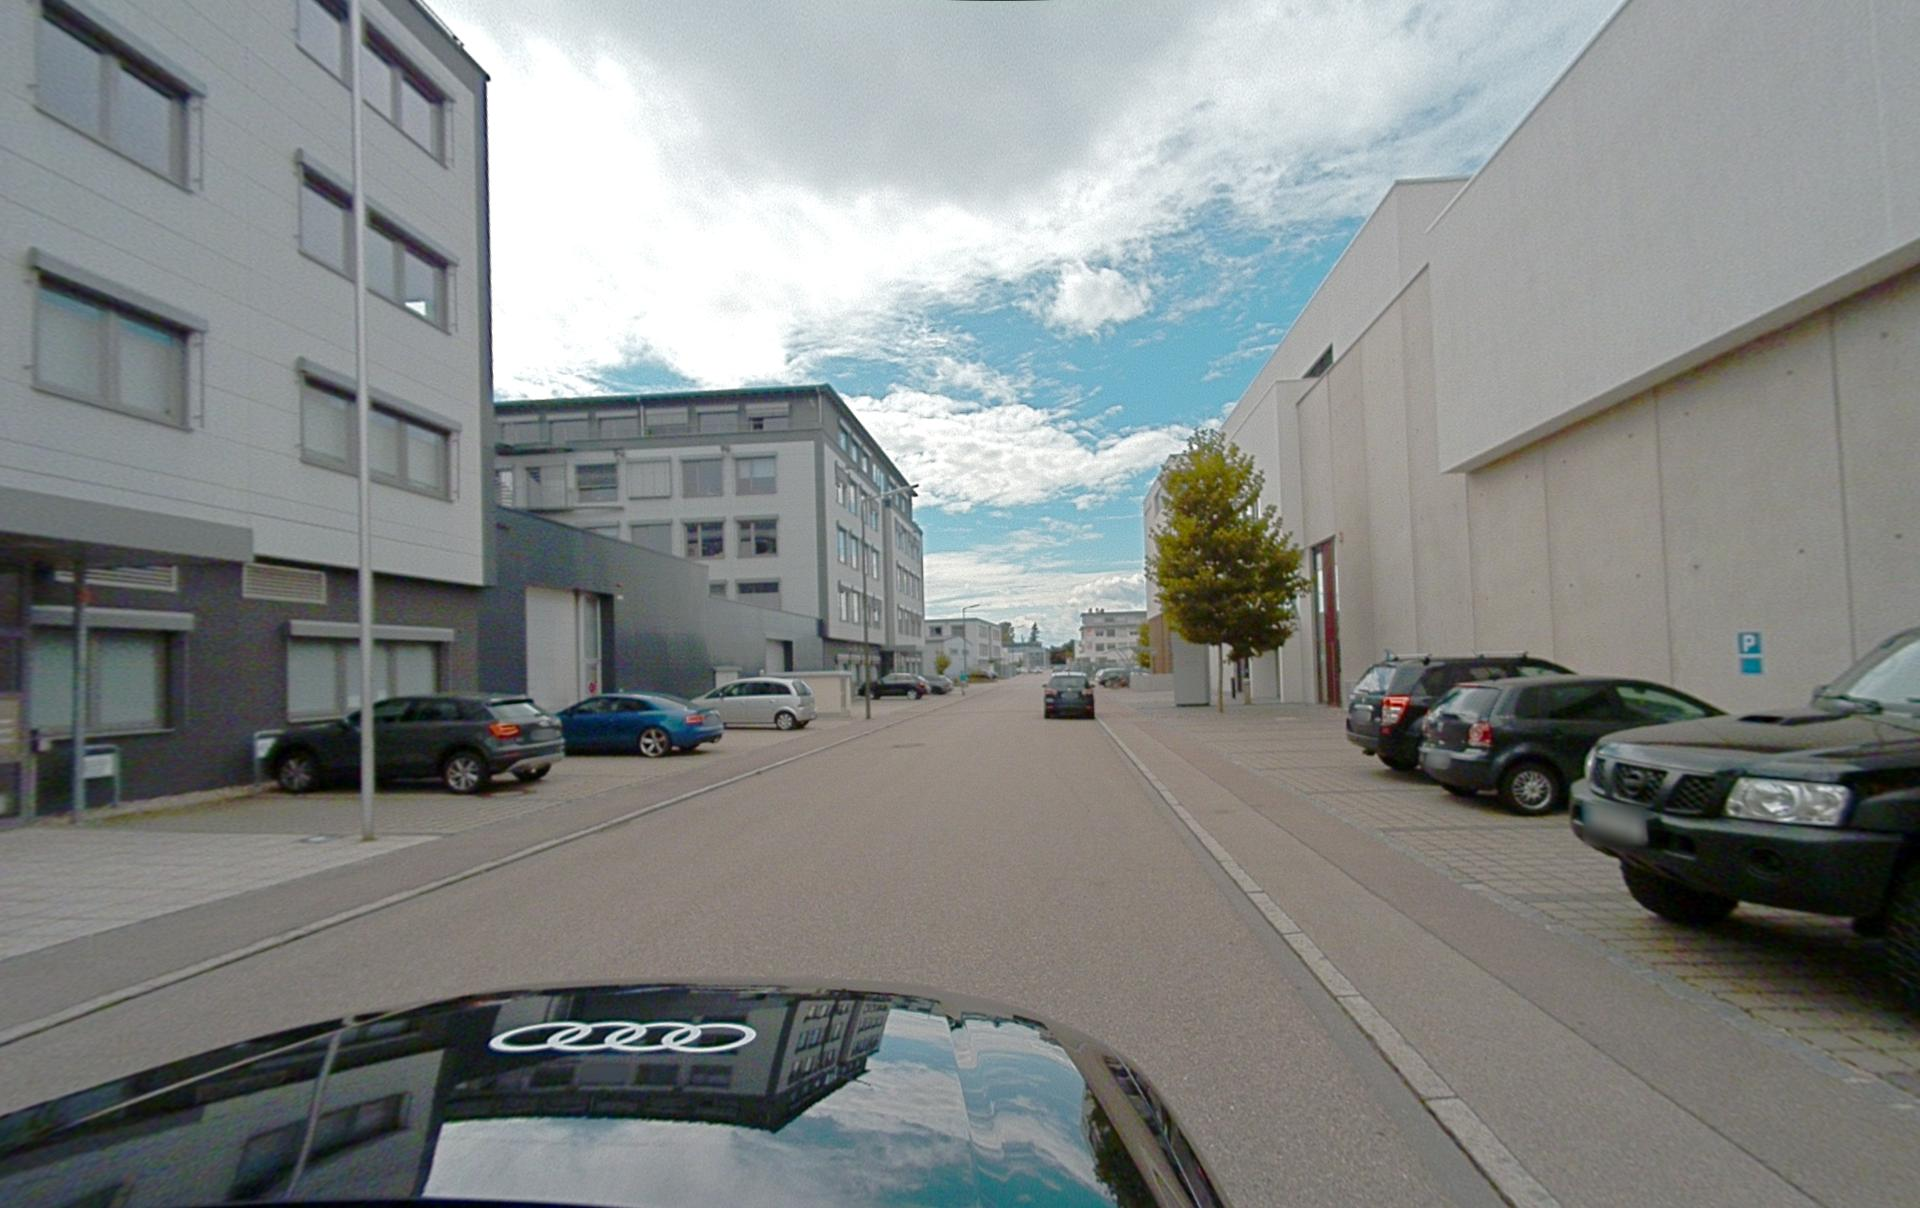car: (0, 984, 1220, 1207), (1571, 628, 1919, 1002), (1419, 675, 1718, 814), (561, 692, 723, 756), (1345, 653, 1432, 765), (693, 675, 814, 731), (1043, 672, 1094, 718), (870, 672, 928, 699), (1096, 668, 1128, 688), (925, 675, 952, 693)
